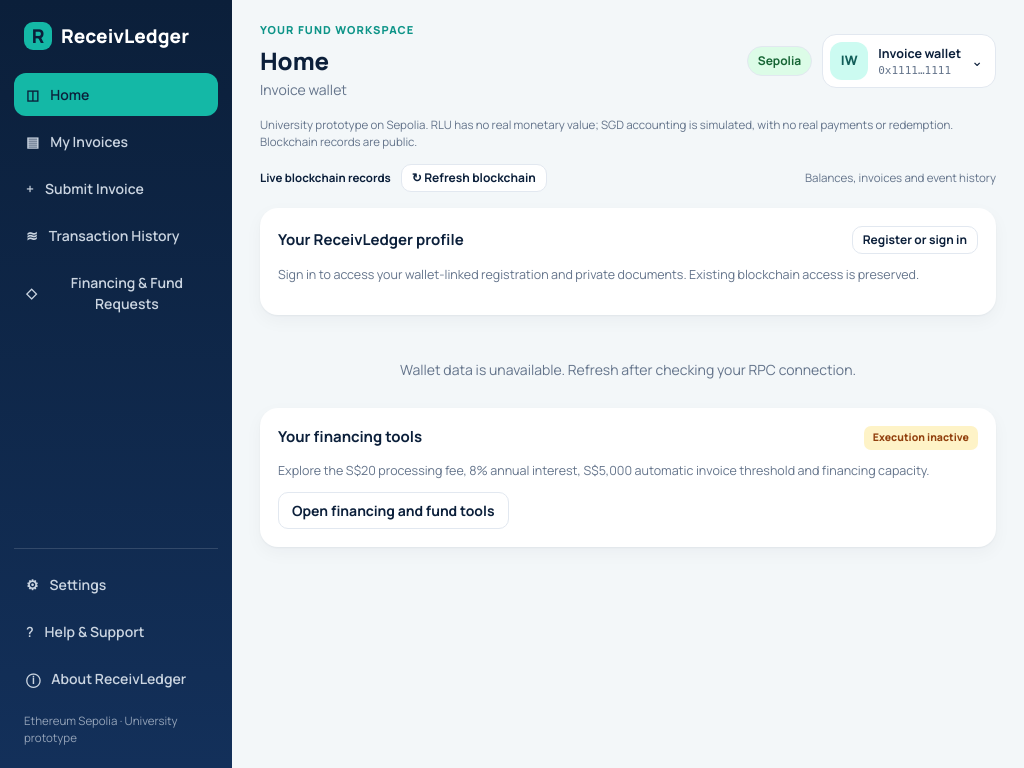
Test: Stage A wallet navigation and account controls › opens the shared fund tools from sme Home
This screenshot has width=1024, height=768.
Step 1. Click the button "Open financing and fund tools" → [393, 511], box [278, 492, 508, 529]
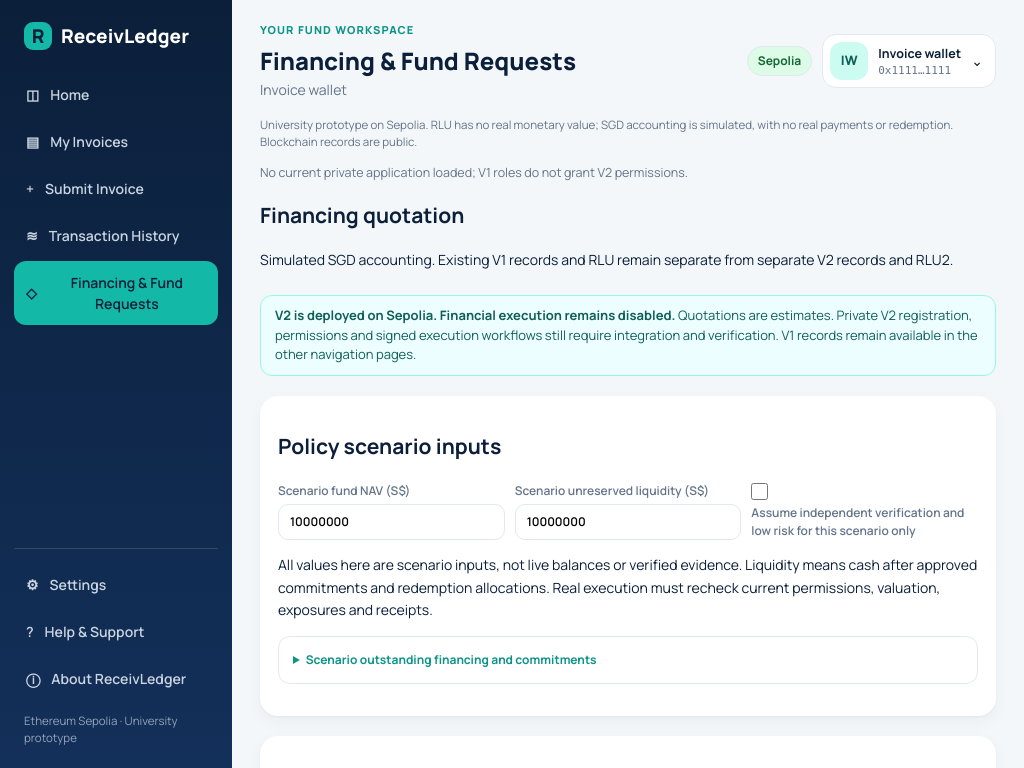
Now the heading "Financing & Fund Requests" is shown, box [260, 42, 576, 78]
Now the text "V2 is deployed on Sepolia. Financial execution remains disabled." is shown, box [275, 306, 676, 324]
